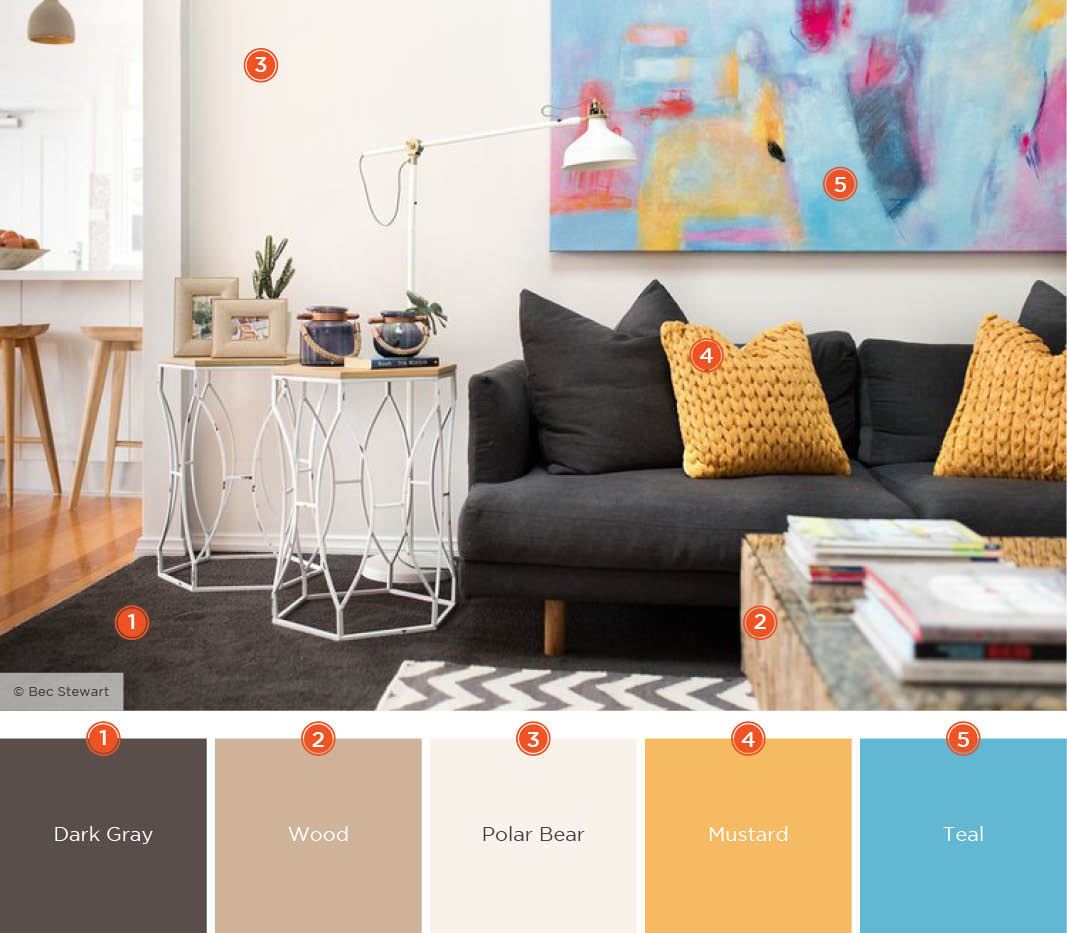coklat: (74, 324, 140, 501), (1, 324, 63, 500)
hitam: (465, 339, 1066, 536), (519, 290, 678, 471)
kuning: (673, 332, 841, 474), (939, 329, 1067, 497)
puith: (565, 123, 635, 171)
